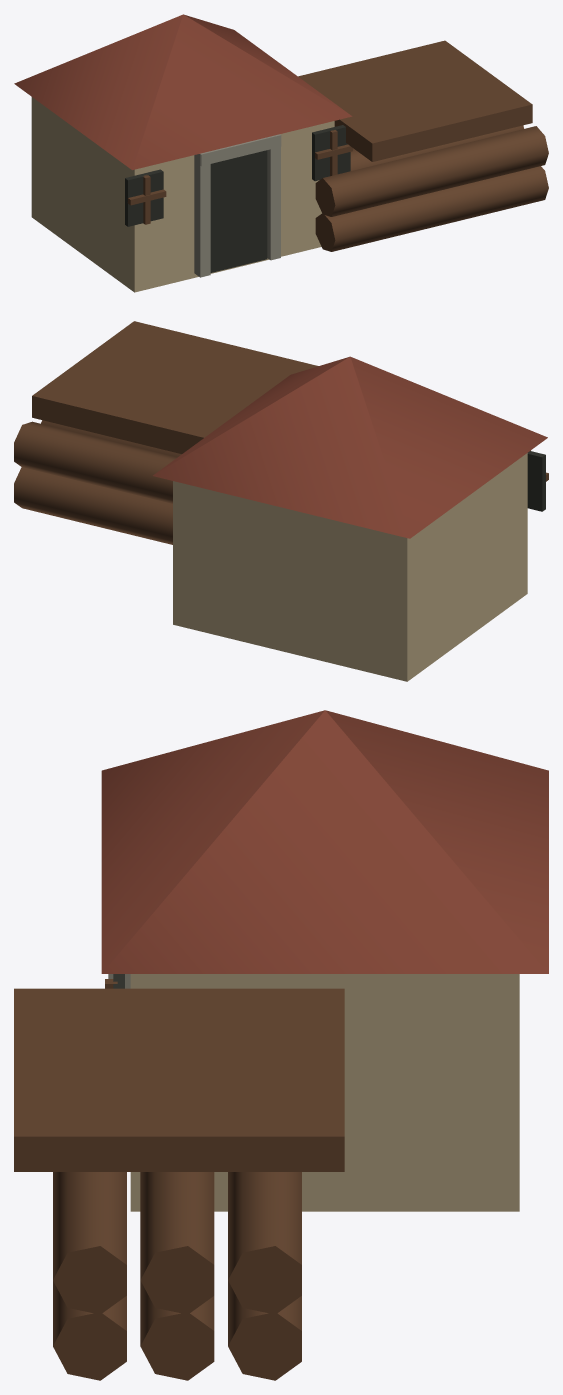
File: custom-imp-lumber.glb
3 renders of one model, top to bottom at view 1: azimuth 30°, elevation 25°; view 2: azimuth 150°, elevation 25°; view 3: azimuth 270°, elevation 25°, orthographic. The views are drawn at different scales.
Visible parts, largest first — view 1: custom-imp-lumber; view 2: custom-imp-lumber; view 3: custom-imp-lumber.
Boxes of the visible parts, box(x1,y1,x2,y2) form: custom-imp-lumber: box(14, 14, 548, 292); custom-imp-lumber: box(14, 321, 548, 681); custom-imp-lumber: box(14, 710, 548, 1380).
Size of the model in its own units: 1 by 0.5099 by 0.6044.
